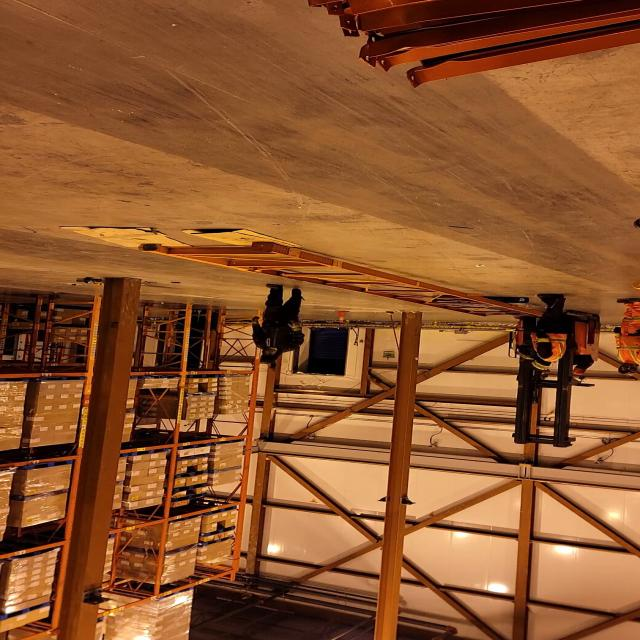forklift: (497, 305, 603, 444)
human: (250, 282, 306, 361), (532, 292, 574, 370), (607, 293, 640, 379), (556, 352, 600, 377)
objectofinterest: (125, 240, 548, 320), (54, 224, 192, 256), (180, 226, 305, 257), (484, 293, 534, 307)
